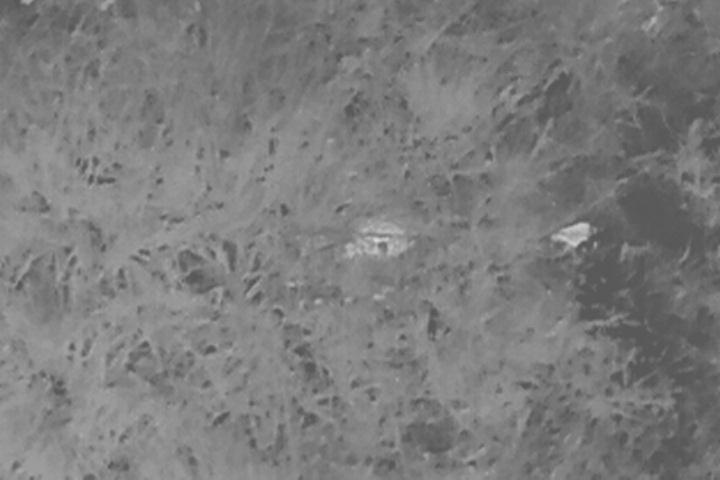landmine: (333, 189, 422, 261)
